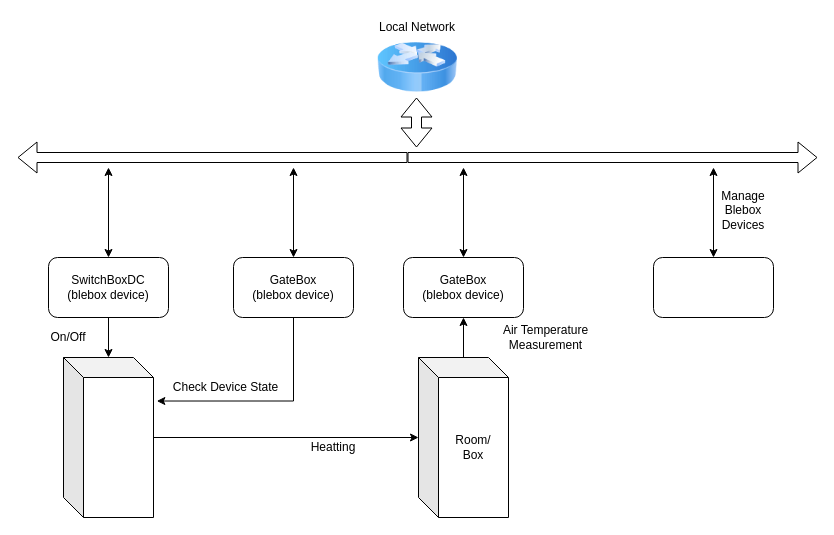
This 834x535 diagram has some shape labels left out. Each missing label, with the centre of its shape:
ESP32 Remote Thermostat: the point at 713,287
MATSUI (heater): the point at 108,437
